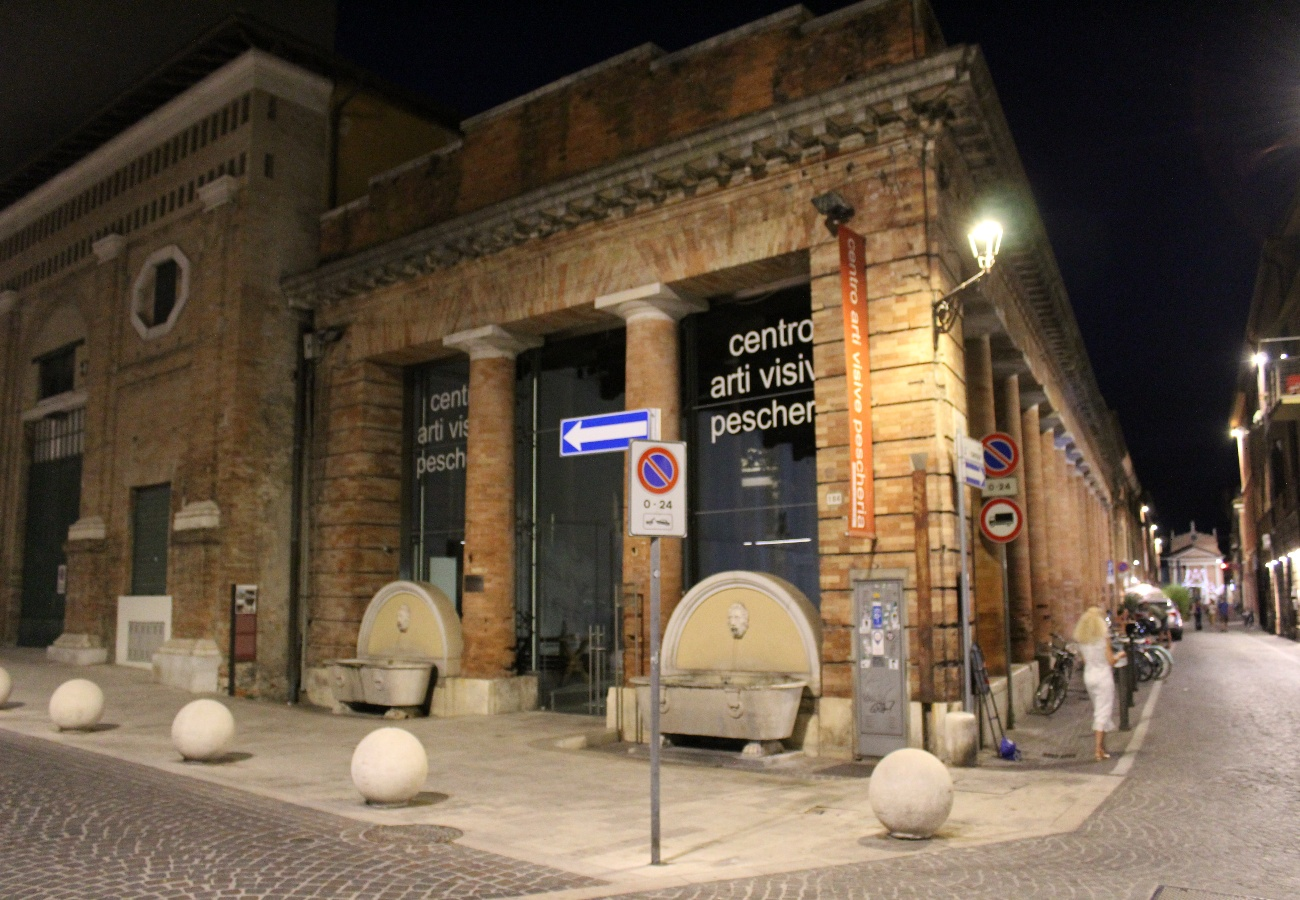Centro Arti Visive Pescheria: (306, 3, 925, 761)
